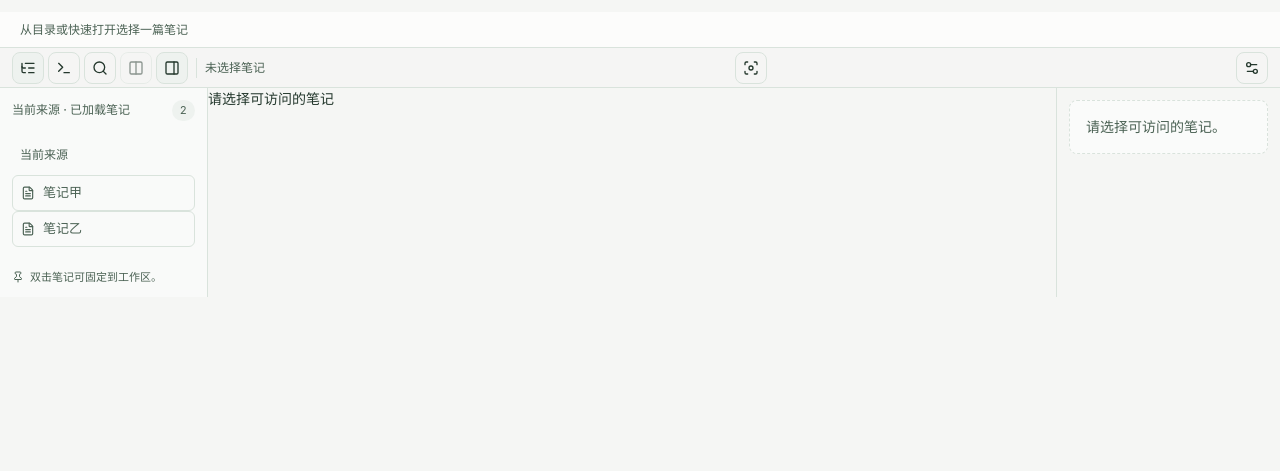
opens a loaded source note from the directory
Check: the element named "笔记目录侧栏" is shown, box top-left (0, 88), bottom-right (208, 297)
Click the button named "笔记目录" at (28, 68), box top-left (12, 52), bottom-right (44, 84)
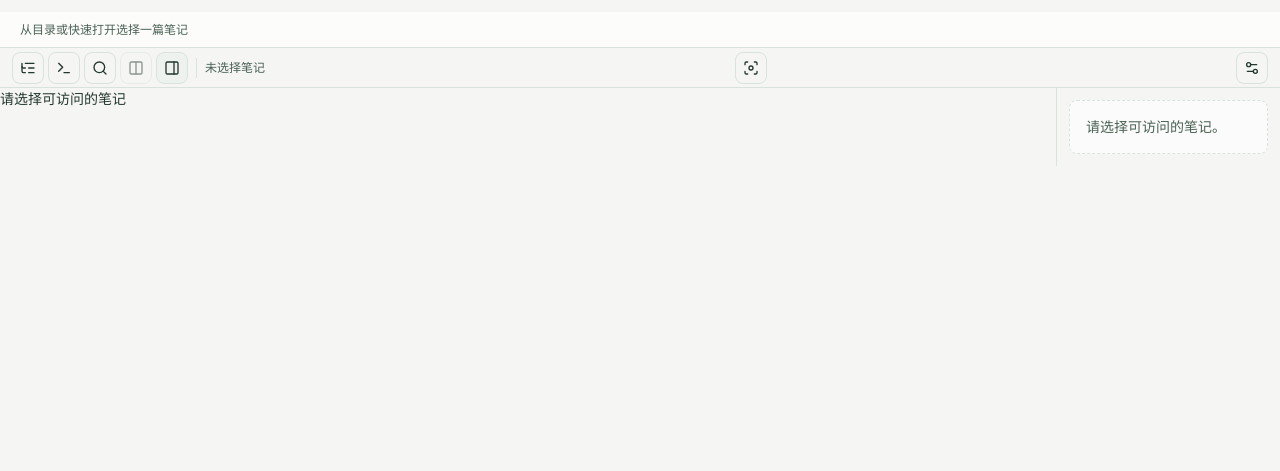
Check: the navigation bar "笔记目录列表" is gone
Click the button named "笔记目录" at (28, 68), box top-left (12, 52), bottom-right (44, 84)
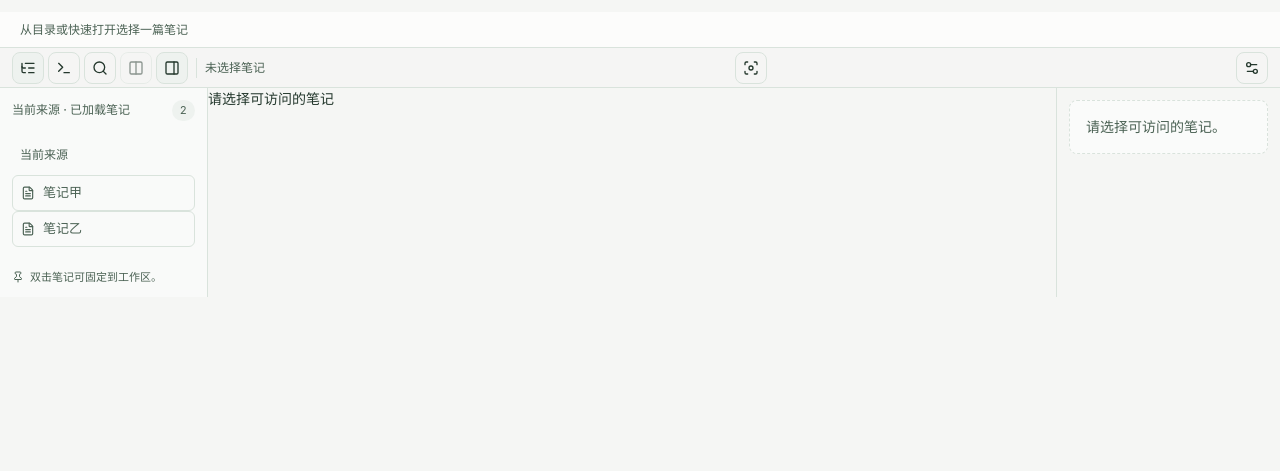
Check: the navigation bar named "笔记目录列表" is shown, box top-left (0, 88), bottom-right (207, 297)
Click the button "笔记乙" at (104, 228), box top-left (12, 210), bottom-right (195, 246)
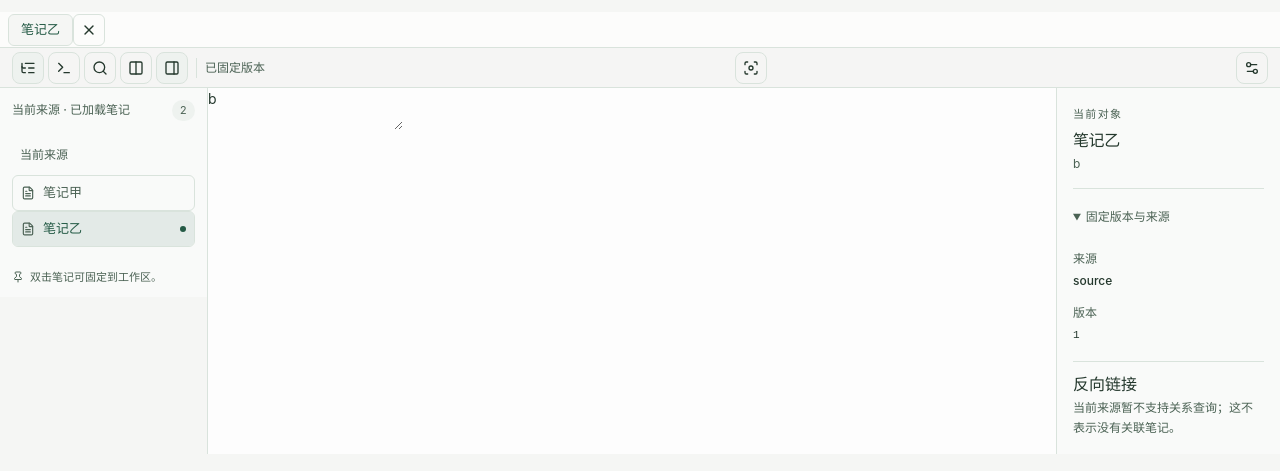
Check: the tab "笔记乙" is shown, box top-left (8, 14), bottom-right (73, 46)
